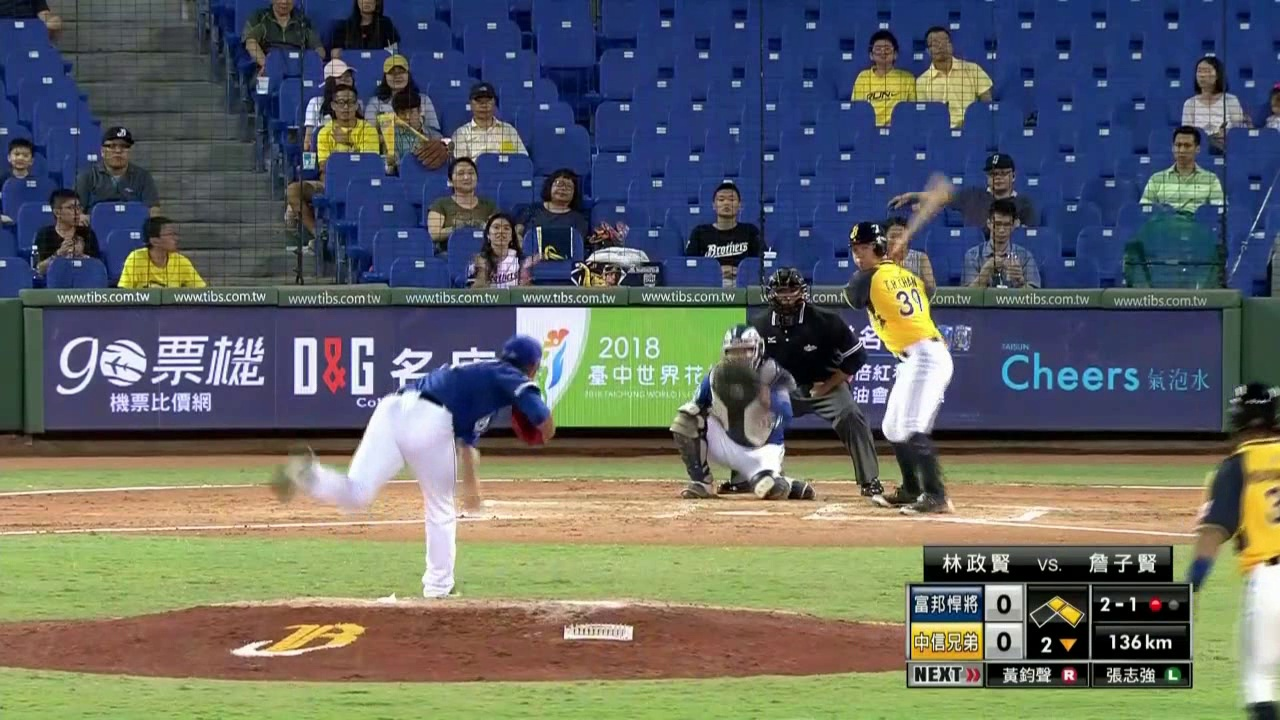base: (1027, 589, 1084, 628)
bat: (886, 169, 958, 251)
out: (1146, 587, 1187, 621)
score1: (987, 587, 1021, 619)
score2: (986, 627, 1020, 658)
session: (1027, 628, 1084, 657)
speed: (1096, 630, 1185, 656)
strikeball: (1091, 587, 1143, 623)
